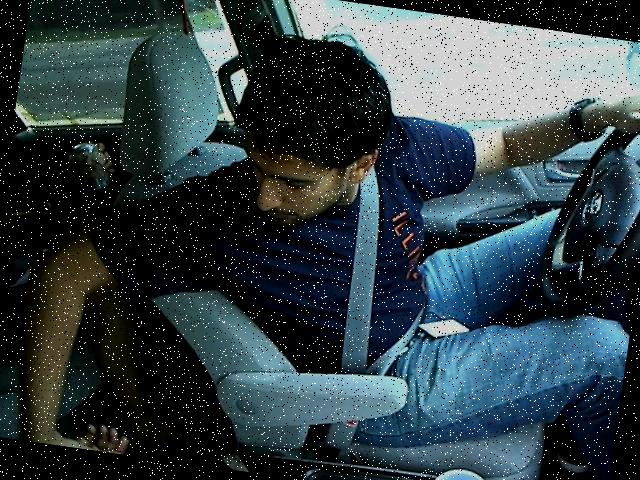c5 - Reaching Behind: (77, 6, 639, 441)
